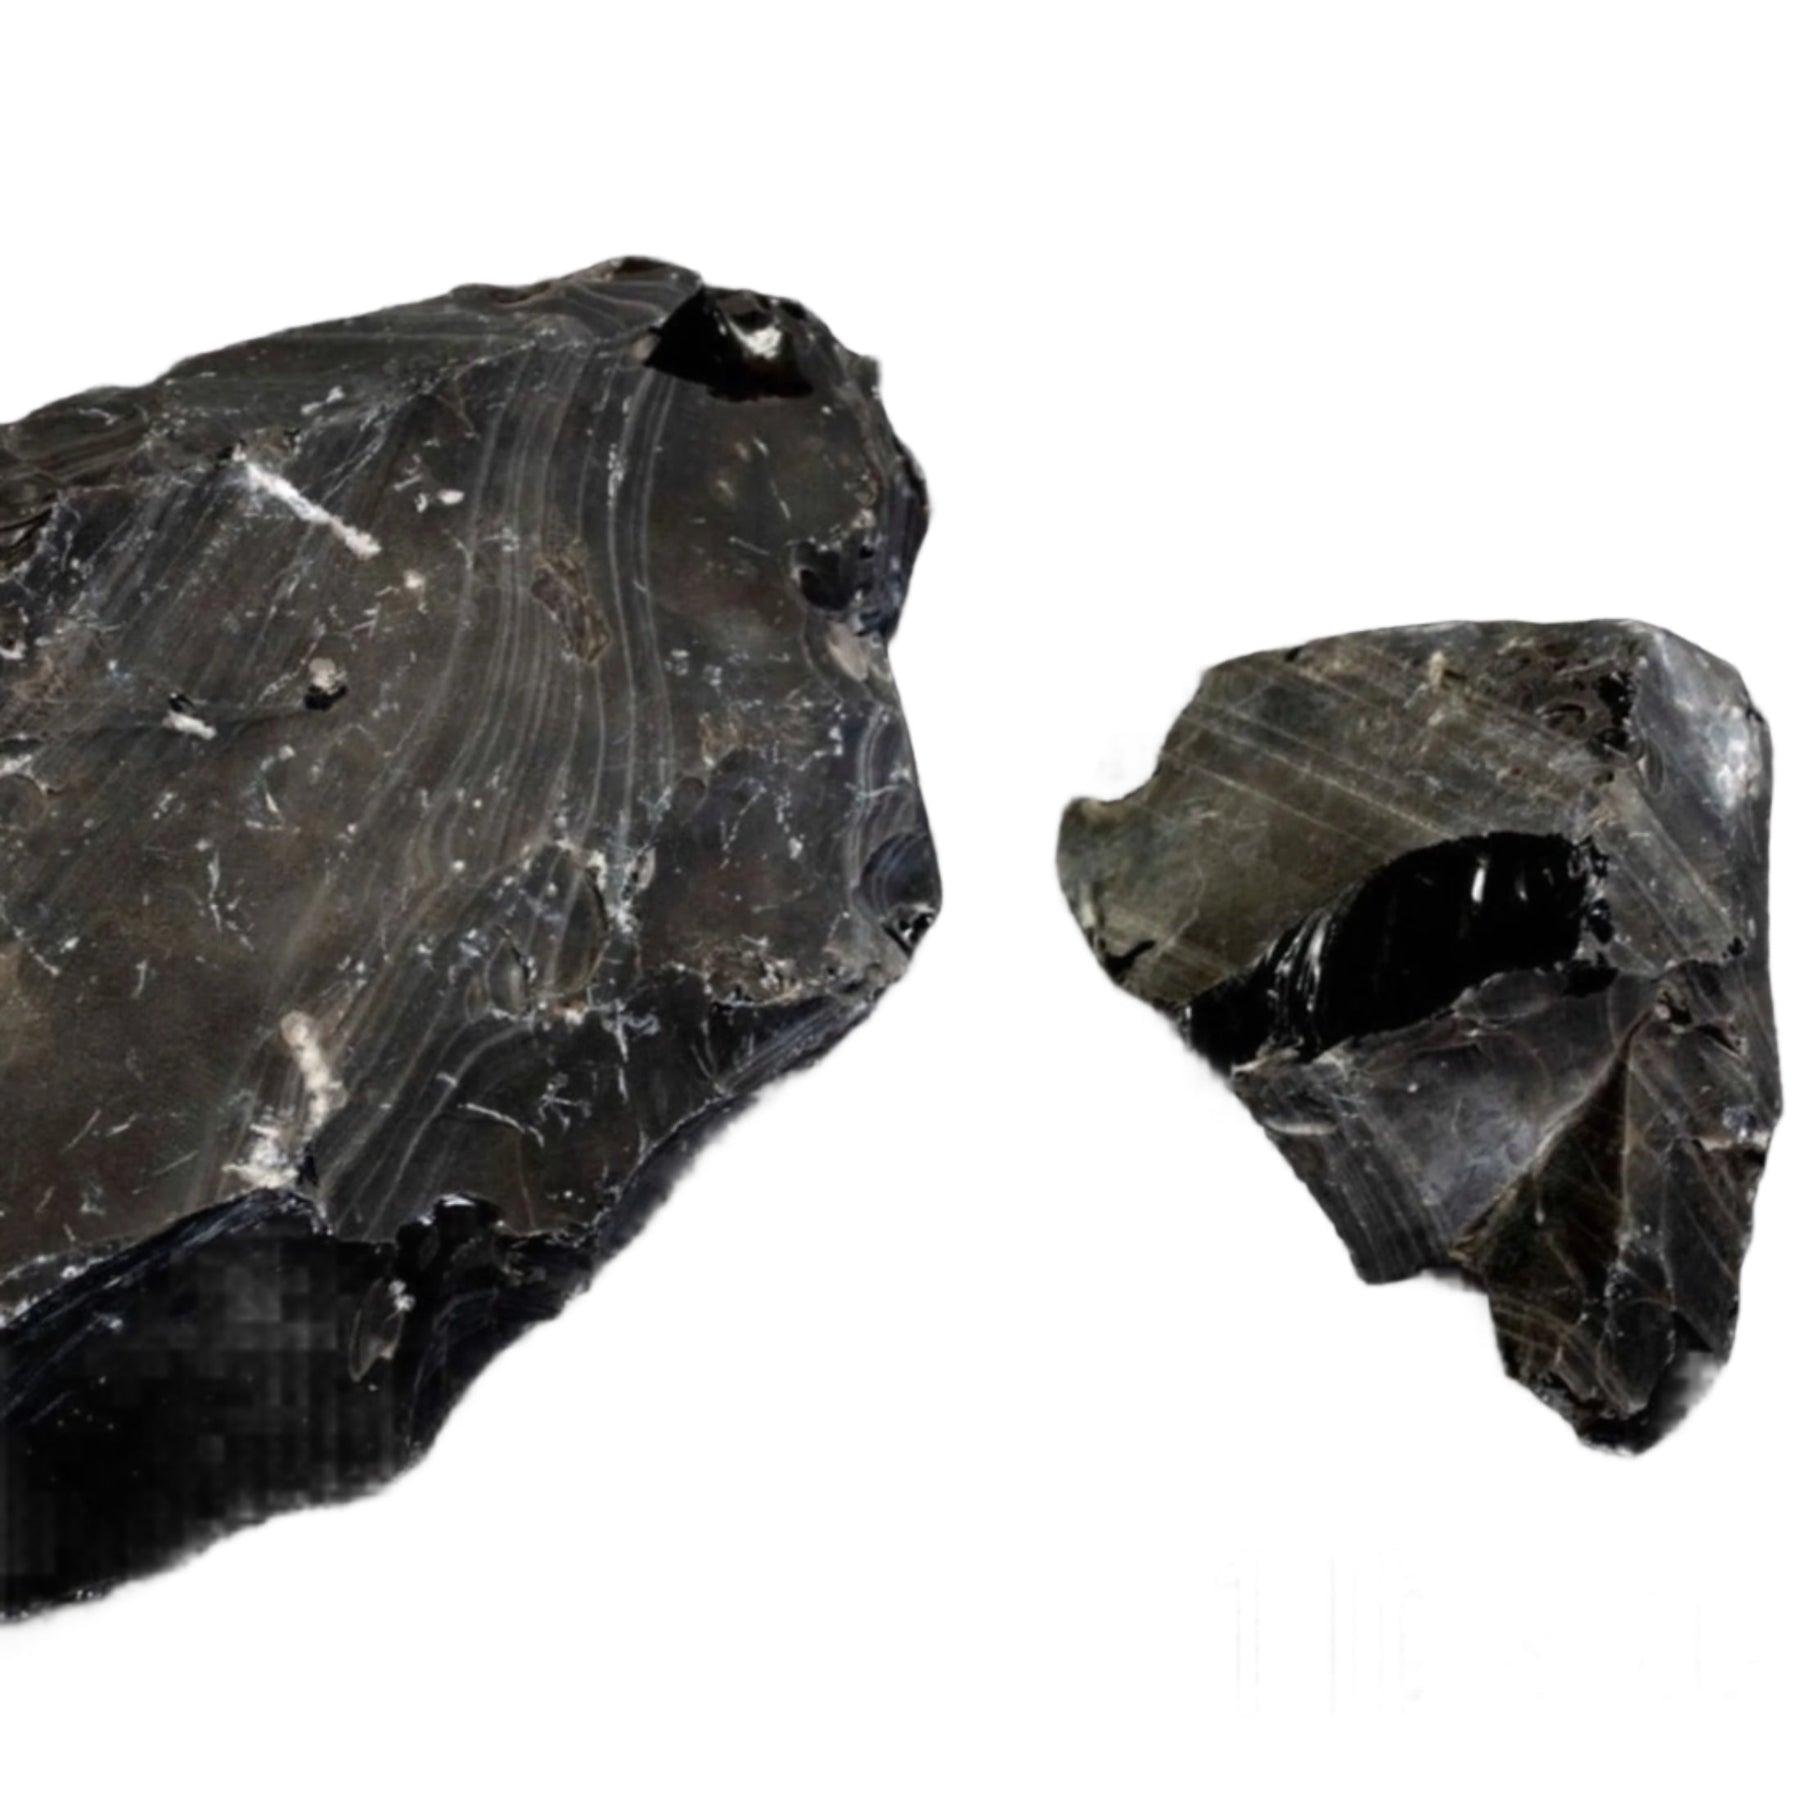Obsidian: (0, 249, 940, 1627), (1060, 607, 1780, 1462)
